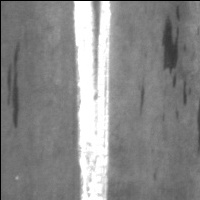inclusion: (161, 11, 182, 89), (5, 44, 22, 130), (134, 80, 149, 118)
scratches: (72, 1, 114, 200)
